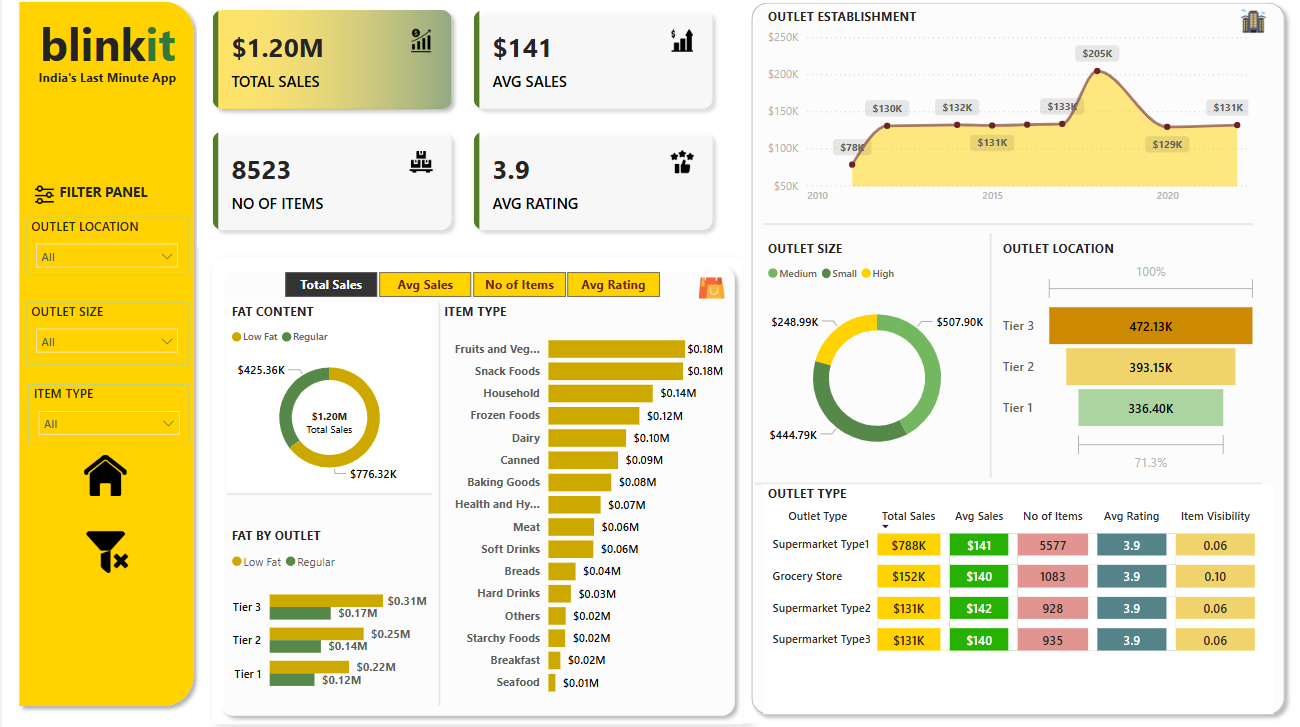

What the dashboard file says about the page in this screenshot:
{"tool":"powerbi","page":{"name":"blinkit","canvas":[1400,800],"ordinal":0},"visuals":[{"type":"shape","box":[9.4,0,205.1,773.5],"z":0},{"type":"textbox","box":[10.5,16.5,205.4,84],"z":1000},{"type":"textbox","box":[27,76.5,172.5,37.5],"z":2000},{"type":"shape","box":[225.2,284.2,569.7,500],"z":3000},{"type":"donutChart","title":"FAT CONTENT","fields":{"Y":["BlinkIT Grocery Data.Total Sales"],"Category":["BlinkIT Grocery Data.Item Fat Content"]},"box":[241.3,332.4,219.8,201.1],"z":4000},{"type":"slicer","fields":{"Values":["metrics.metrics"]},"box":[277.5,292.2,451.7,40.2],"z":5000},{"type":"cardVisual","fields":{"Data":["BlinkIT Grocery Data.Total Sales"]},"box":[301.6,430.3,99.2,53.6],"z":6000},{"type":"clusteredBarChart","title":"FAT BY OUTLET","fields":{"Y":["BlinkIT Grocery Data.Total Sales"],"Category":["BlinkIT Grocery Data.Outlet Location Type"],"Series":["BlinkIT Grocery Data.Item Fat Content"]},"box":[241.3,572.4,219.8,191.7],"z":7000},{"type":"shape","box":[241.3,526.8,219.8,21.4],"z":8000},{"type":"shape","box":[461.1,332.4,16.1,431.6],"z":9000},{"type":"barChart","title":"ITEM TYPE","fields":{"Y":["BlinkIT Grocery Data.Total Sales"],"Category":["BlinkIT Grocery Data.Item Type"]},"box":[469.2,332.4,309.7,431.6],"z":10000},{"type":"shape","box":[794.9,1.3,589.8,781.5],"z":11000},{"type":"lineChart","title":"OUTLET ESTABLISHMENT","fields":{"Y":["BlinkIT Grocery Data.Total Sales"],"Category":["BlinkIT Grocery Data.Outlet Establishment Year"]},"box":[816.4,16.1,525.5,218.5],"z":12000},{"type":"shape","box":[816.4,231.9,525.5,32.2],"z":13000},{"type":"shape","box":[1052.3,257.4,16.1,262.7],"z":14000},{"type":"donutChart","title":"OUTLET SIZE","fields":{"Y":["BlinkIT Grocery Data.Total Sales"],"Category":["BlinkIT Grocery Data.Outlet Size"]},"box":[816.4,264.1,244,253.4],"z":15000},{"type":"funnel","title":"OUTLET LOCATION","fields":{"Y":["Sum(BlinkIT Grocery Data.Sales)"],"Category":["BlinkIT Grocery Data.Outlet Location Type"]},"box":[1068.4,264.1,282.8,256],"z":16000},{"type":"shape","box":[807,517.4,544.2,17.4],"z":17000},{"type":"slicer","title":"OUTLET LOCATION","fields":{"Values":["BlinkIT Grocery Data.Outlet Location Type"]},"box":[25.5,239.9,174.3,63],"z":18000},{"type":"pivotTable","title":"OUTLET TYPE","fields":{"Values":["BlinkIT Grocery Data.Total Sales","BlinkIT Grocery Data.Avg Sales","BlinkIT Grocery Data.No of Items","BlinkIT Grocery Data.Avg Rating","Avg(BlinkIT Grocery Data.Item Visibility)"],"Rows":["BlinkIT Grocery Data.Outlet Type"]},"box":[816.4,526.8,546.9,246.7],"z":19000},{"type":"slicer","title":"OUTLET SIZE","fields":{"Values":["BlinkIT Grocery Data.Outlet Size"]},"box":[25.5,331.1,174.3,68.4],"z":20000},{"type":"slicer","title":"ITEM TYPE","fields":{"Values":["BlinkIT Grocery Data.Item Type"]},"box":[28.2,419.6,172.9,64.3],"z":21000},{"type":"textbox","box":[28.2,198.4,160.9,33.5],"z":22000},{"type":"image","title":"clear all filters","box":[57.6,572.4,109.9,55],"z":23000},{"type":"image","box":[10.7,198.4,69.7,36.2],"z":24000},{"type":"cardVisual","fields":{"Data":["BlinkIT Grocery Data.Total Sales","BlinkIT Grocery Data.Avg Sales","BlinkIT Grocery Data.No of Items","BlinkIT Grocery Data.Avg Rating"]},"box":[209,1,570,271],"z":25000},{"type":"image","box":[738.6,290.9,45.6,41.6],"z":26000},{"type":"image","box":[1320.4,10.7,42.9,38.9],"z":27000},{"type":"image","box":[61.7,490.6,99.2,53.6],"z":28000}]}

Visuals, with their boxes in screenshot pixels (x1, y1, x2, y2), scaled from the page's 1400x800 canvas onto the 1300x727 screenshot:
shape: l=9, t=0, r=199, b=703
textbox: l=10, t=15, r=200, b=91
textbox: l=25, t=70, r=185, b=104
shape: l=209, t=258, r=738, b=713
"FAT CONTENT" donutChart: l=224, t=302, r=428, b=485
slicer - metrics.metrics: l=258, t=266, r=677, b=302
cardVisual - BlinkIT Grocery Data.Total Sales: l=280, t=391, r=372, b=440
"FAT BY OUTLET" clusteredBarChart: l=224, t=520, r=428, b=694
shape: l=224, t=479, r=428, b=498
shape: l=428, t=302, r=443, b=694
"ITEM TYPE" barChart: l=436, t=302, r=723, b=694
shape: l=738, t=1, r=1286, b=711
"OUTLET ESTABLISHMENT" lineChart: l=758, t=15, r=1246, b=213
shape: l=758, t=211, r=1246, b=240
shape: l=977, t=234, r=992, b=473
"OUTLET SIZE" donutChart: l=758, t=240, r=985, b=470
"OUTLET LOCATION" funnel: l=992, t=240, r=1255, b=473
shape: l=749, t=470, r=1255, b=486
"OUTLET LOCATION" slicer: l=24, t=218, r=186, b=275
"OUTLET TYPE" pivotTable: l=758, t=479, r=1266, b=703
"OUTLET SIZE" slicer: l=24, t=301, r=186, b=363
"ITEM TYPE" slicer: l=26, t=381, r=187, b=440
textbox: l=26, t=180, r=176, b=211
"clear all filters" image: l=53, t=520, r=156, b=570
image: l=10, t=180, r=75, b=213
cardVisual - BlinkIT Grocery Data.Total Sales x BlinkIT Grocery Data.Avg Sales: l=194, t=1, r=723, b=247
image: l=686, t=264, r=728, b=302
image: l=1226, t=10, r=1266, b=45
image: l=57, t=446, r=149, b=495
